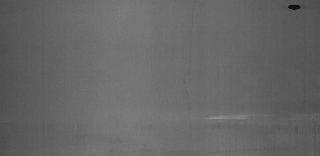punching hole: (286, 2, 302, 10)
